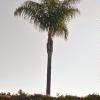Palm tree: (13, 3, 79, 86)
